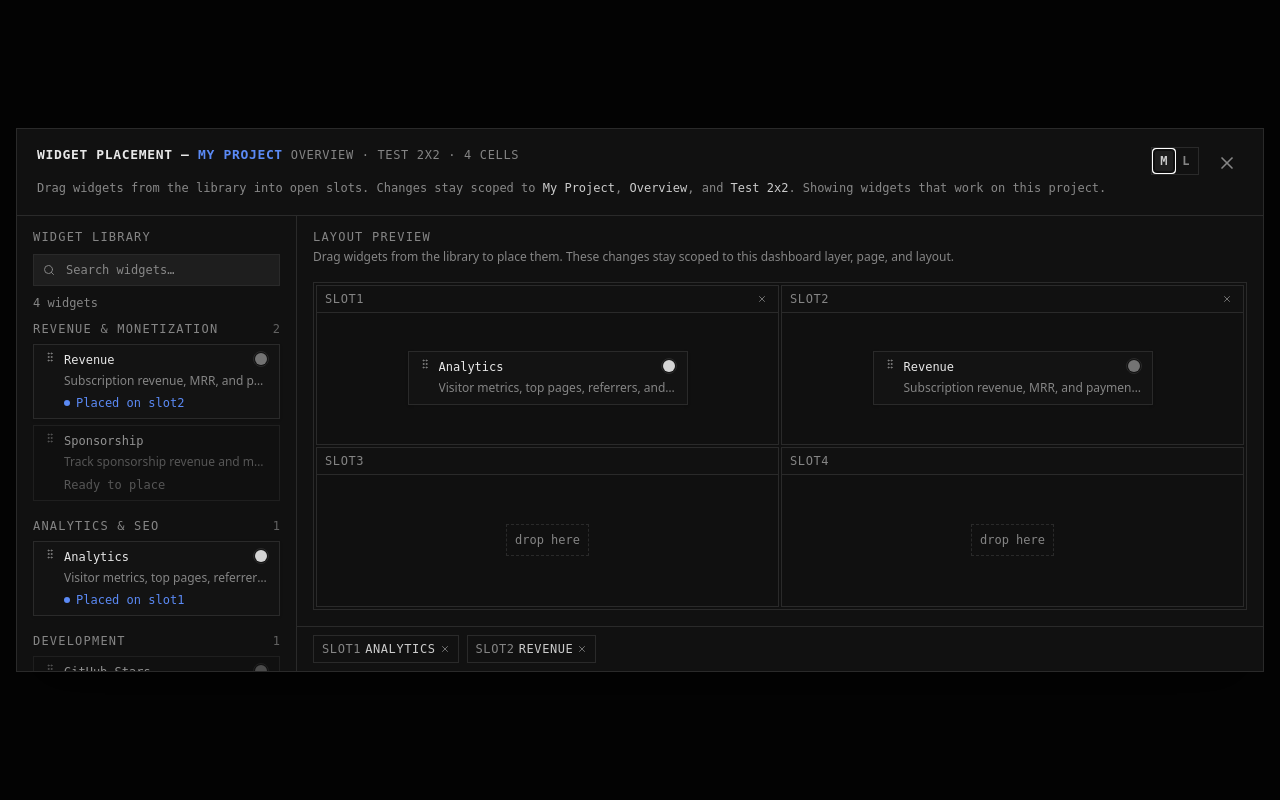
Test: ProjectWidgetPlacementModal › search filters widgets in the library
Type "star" into the field with placeholder "Search widgets…" at point(156, 270), box [33,254,280,286]
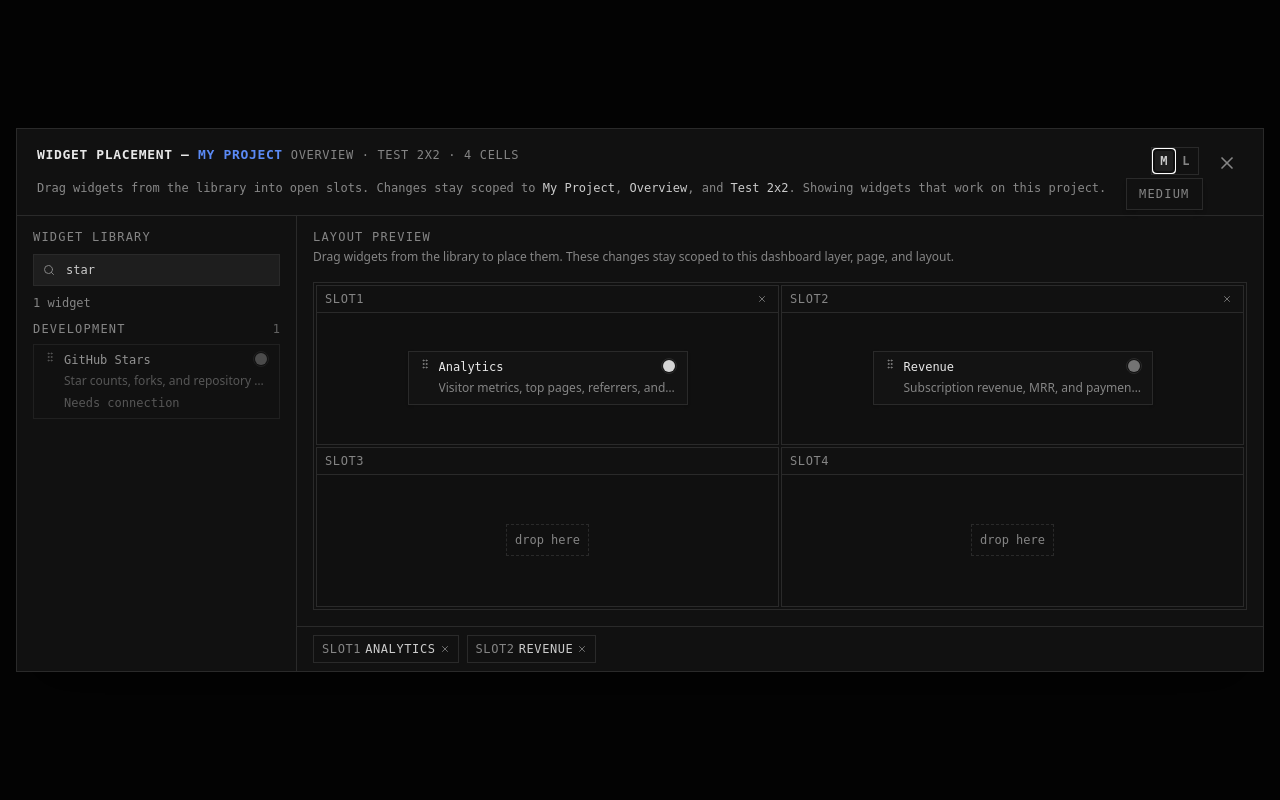
Now the text "1 widget" is shown, box [33,296,91,310]
Now the heading "Revenue & Monetization" is gone
Now the heading "Analytics & SEO" is gone
